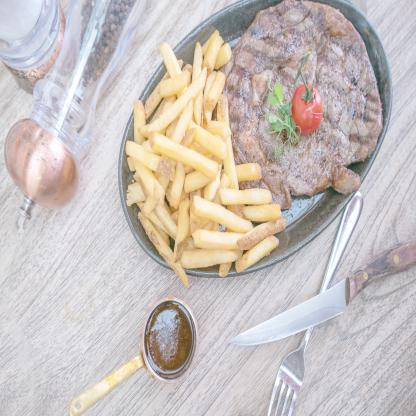Carne: (234, 0, 383, 192)
